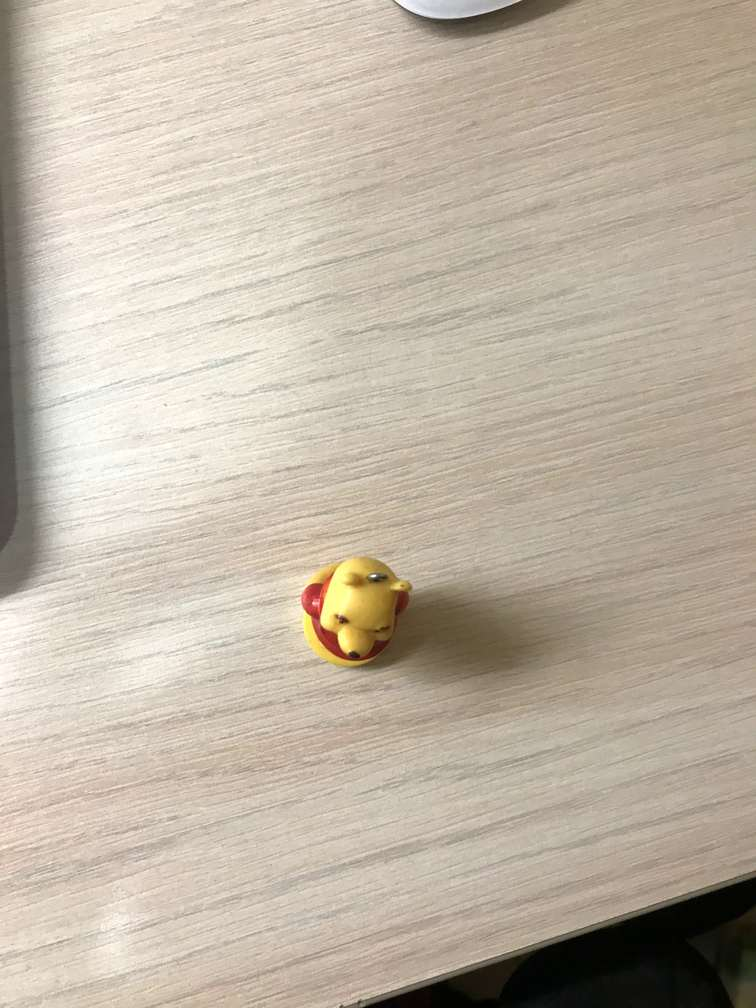Winnie: (309, 556, 419, 651)
